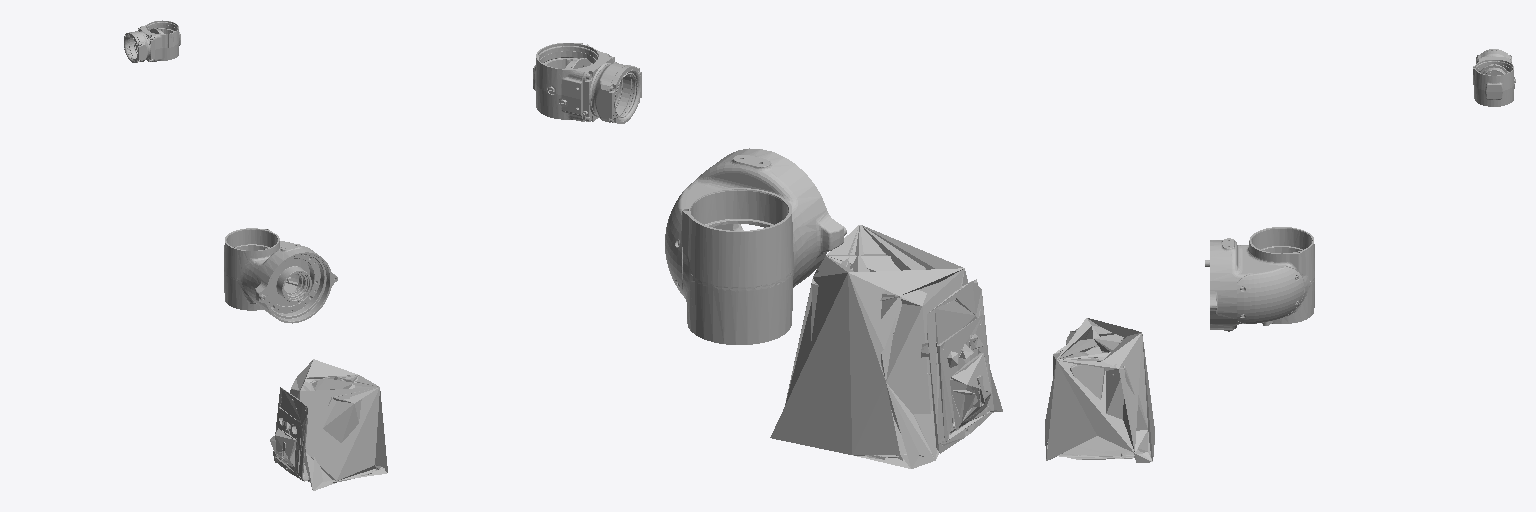
URDF robot description (GP8_ROBOT):
<?xml version="1.0" encoding="utf-8"?>
<!-- This URDF was automatically created by SolidWorks to URDF Exporter! Originally created by [author] ([email redacted]) 
     Commit Version: 1.6.0-1-g15f4949  Build Version: 1.6.7594.29634
     For more information, please see http://wiki.ros.org/sw_urdf_exporter -->
<robot
  name="GP8_ROBOT">
  <link
    name="base_link">
    <inertial>
      <origin
        xyz="-0.0652812104856196 0.000650845346842319 0.0571342236625736"
        rpy="0 0 0" />
      <mass
        value="0.277513225515359" />
      <inertia
        ixx="0.000587449809903283"
        ixy="-3.54881762833007E-06"
        ixz="-1.72893878677204E-05"
        iyy="0.000429447499445371"
        iyz="-2.07386522800233E-06"
        izz="0.000624100905267788" />
    </inertial>
    <visual>
      <origin
        xyz="0 0 0"
        rpy="0 0 0" />
      <geometry>
        <mesh
          filename="package://GP8_ROBOT/meshes/base_link.STL" />
      </geometry>
      <material
        name="">
        <color
          rgba="0.752941176470588 0.752941176470588 0.752941176470588 1" />
      </material>
    </visual>
    <collision>
      <origin
        xyz="0 0 0"
        rpy="0 0 0" />
      <geometry>
        <mesh
          filename="package://GP8_ROBOT/meshes/base_link.STL" />
      </geometry>
    </collision>
  </link>
  <link
    name="link_s_1">
    <inertial>
      <origin
        xyz="-0.0233875345431962 -0.0409434383325452 -0.00705946708811589"
        rpy="0 0 0" />
      <mass
        value="0.206853106260213" />
      <inertia
        ixx="0.000217188936891381"
        ixy="3.0160003975487E-09"
        ixz="-2.88010888808085E-05"
        iyy="0.000264031369070913"
        iyz="3.0900539052876E-09"
        izz="0.000175182610718139" />
    </inertial>
    <visual>
      <origin
        xyz="0 0 0"
        rpy="0 0 0" />
      <geometry>
        <mesh
          filename="package://GP8_ROBOT/meshes/link_s_1.STL" />
      </geometry>
      <material
        name="">
        <color
          rgba="0.752941176470588 0.752941176470588 0.752941176470588 1" />
      </material>
    </visual>
    <collision>
      <origin
        xyz="0 0 0"
        rpy="0 0 0" />
      <geometry>
        <mesh
          filename="package://GP8_ROBOT/meshes/link_s_1.STL" />
      </geometry>
    </collision>
  </link>
  <joint
    name="joint_s_1"
    type="revolute">
    <origin
      xyz="0.04 0 0.33"
      rpy="0 0 0" />
    <parent
      link="base_link" />
    <child
      link="link_s_1" />
    <axis
      xyz="0 0 -1" />
    <limit
      lower="-2.9671"
      upper="2.9671"
      effort="30"
      velocity="7.9413" />
  </joint>
  <link
    name="link_l_2">
    <inertial>
      <origin
        xyz="-0.0235569691025702 -0.000621628911227211 0.160353720137275"
        rpy="0 0 0" />
      <mass
        value="1.60022314643033" />
      <inertia
        ixx="0.0224987901336236"
        ixy="3.98888746967524E-05"
        ixz="0.000229424164720137"
        iyy="0.0201417423251241"
        iyz="-0.000484912332583303"
        izz="0.00729424551897379" />
    </inertial>
    <visual>
      <origin
        xyz="0 0 0"
        rpy="0 0 0" />
      <geometry>
        <mesh
          filename="package://GP8_ROBOT/meshes/link_l_2.STL" />
      </geometry>
      <material
        name="">
        <color
          rgba="0.752941176470588 0.752941176470588 0.752941176470588 1" />
      </material>
    </visual>
    <collision>
      <origin
        xyz="0 0 0"
        rpy="0 0 0" />
      <geometry>
        <mesh
          filename="package://GP8_ROBOT/meshes/link_l_2.STL" />
      </geometry>
    </collision>
  </link>
  <joint
    name="joint_l_2"
    type="revolute">
    <origin
      xyz="0 0 0"
      rpy="0 0 0" />
    <parent
      link="link_s_1" />
    <child
      link="link_l_2" />
    <axis
      xyz="0 -1 0" />
    <limit
      lower="-1.1345"
      upper="2.5307"
      effort="30"
      velocity="6.7195" />
  </joint>
  <link
    name="link_u_3">
    <inertial>
      <origin
        xyz="-0.0249999863890236 -1.43346086513718E-08 0.0988436751455709"
        rpy="0 0 0" />
      <mass
        value="438218.078226928" />
      <inertia
        ixx="22.8415065262053"
        ixy="-3.95716194882173E-07"
        ixz="-4.18816882557033E-05"
        iyy="22.8420472669112"
        iyz="-1.5347647244187E-05"
        izz="45.4201725218812" />
    </inertial>
    <visual>
      <origin
        xyz="0 0 0"
        rpy="0 0 0" />
      <geometry>
        <mesh
          filename="package://GP8_ROBOT/meshes/link_u_3.STL" />
      </geometry>
      <material
        name="">
        <color
          rgba="0.752941176470588 0.752941176470588 0.752941176470588 1" />
      </material>
    </visual>
    <collision>
      <origin
        xyz="0 0 0"
        rpy="0 0 0" />
      <geometry>
        <mesh
          filename="package://GP8_ROBOT/meshes/link_u_3.STL" />
      </geometry>
    </collision>
  </link>
  <joint
    name="joint_u_3"
    type="revolute">
    <origin
      xyz="0 0 0.345"
      rpy="0 0 0" />
    <parent
      link="link_l_2" />
    <child
      link="link_u_3" />
    <axis
      xyz="0 -1 0" />
    <limit
      lower="-1.2217"
      upper="3.3161"
      effort="30"
      velocity="9.0757" />
  </joint>
  <link
    name="link_r_4">
    <inertial>
      <origin
        xyz="0.0120187109126609 0.0170997783888767 0.00119815087328623"
        rpy="0 0 0" />
      <mass
        value="0.239407686790165" />
      <inertia
        ixx="0.000189622597940757"
        ixy="1.68982131243527E-06"
        ixz="3.37003634116589E-07"
        iyy="0.00162057742744657"
        iyz="-1.67712167217846E-09"
        izz="0.00143630142138473" />
    </inertial>
    <visual>
      <origin
        xyz="0 0 0"
        rpy="0 0 0" />
      <geometry>
        <mesh
          filename="package://GP8_ROBOT/meshes/link_r_4.STL" />
      </geometry>
      <material
        name="">
        <color
          rgba="0.752941176470588 0.752941176470588 0.752941176470588 1" />
      </material>
    </visual>
    <collision>
      <origin
        xyz="0 0 0"
        rpy="0 0 0" />
      <geometry>
        <mesh
          filename="package://GP8_ROBOT/meshes/link_r_4.STL" />
      </geometry>
    </collision>
  </link>
  <joint
    name="joint_r_4"
    type="revolute">
    <origin
      xyz="0.22065 0 0.04"
      rpy="0 0 0" />
    <parent
      link="link_u_3" />
    <child
      link="link_r_4" />
    <axis
      xyz="-1 0 0" />
    <limit
      lower="-3.3161"
      upper="3.3161"
      effort="17"
      velocity="9.5993" />
  </joint>
  <link
    name="link_b_5">
    <inertial>
      <origin
        xyz="0.021260542485631 -0.00103435323218999 0.000309137980001428"
        rpy="0 0 0" />
      <mass
        value="0.162817452778828" />
      <inertia
        ixx="0.00012595384625823"
        ixy="-9.68889109090893E-07"
        ixz="-1.7896935836253E-06"
        iyy="0.000141925891641518"
        iyz="1.48158827747186E-07"
        izz="0.000103931385251892" />
    </inertial>
    <visual>
      <origin
        xyz="0 0 0"
        rpy="0 0 0" />
      <geometry>
        <mesh
          filename="package://GP8_ROBOT/meshes/link_b_5.STL" />
      </geometry>
      <material
        name="">
        <color
          rgba="0.752941176470588 0.752941176470588 0.752941176470588 1" />
      </material>
    </visual>
    <collision>
      <origin
        xyz="0 0 0"
        rpy="0 0 0" />
      <geometry>
        <mesh
          filename="package://GP8_ROBOT/meshes/link_b_5.STL" />
      </geometry>
    </collision>
  </link>
  <joint
    name="joint_b_5"
    type="revolute">
    <origin
      xyz="0.11935 0 0"
      rpy="0 0 0" />
    <parent
      link="link_r_4" />
    <child
      link="link_b_5" />
    <axis
      xyz="0 -1 0" />
    <limit
      lower="-2.3562"
      upper="2.3562"
      effort="17"
      velocity="9.5993" />
  </joint>
  <link
    name="link_t_6">
    <inertial>
      <origin
        xyz="0.0103426123677494 0.000104248019014014 -1.42512719403243E-08"
        rpy="0 0 0" />
      <mass
        value="0.0171282215990933" />
      <inertia
        ixx="6.71678492527264E-06"
        ixy="-7.75547932244119E-09"
        ixz="-6.26617975452594E-13"
        iyy="3.48368311870699E-06"
        iyz="2.70549522554527E-11"
        izz="3.5512345838154E-06" />
    </inertial>
    <visual>
      <origin
        xyz="0 0 0"
        rpy="0 0 0" />
      <geometry>
        <mesh
          filename="package://GP8_ROBOT/meshes/link_t_6.STL" />
      </geometry>
      <material
        name="">
        <color
          rgba="0.752941176470588 0.752941176470588 0.752941176470588 1" />
      </material>
    </visual>
    <collision>
      <origin
        xyz="0 0 0"
        rpy="0 0 0" />
      <geometry>
        <mesh
          filename="package://GP8_ROBOT/meshes/link_t_6.STL" />
      </geometry>
    </collision>
  </link>
  <joint
    name="joint_t_6"
    type="revolute">
    <origin
      xyz="0.065 0 0"
      rpy="0 0 0" />
    <parent
      link="link_b_5" />
    <child
      link="link_t_6" />
    <axis
      xyz="0 -1 0" />
    <limit
      lower="-6.2832"
      upper="6.2832"
      effort="10"
      velocity="17.453" />
  </joint>
</robot>

--- Facts derived from the render (not from the file) ---
The picture shows the robot from 3 angles, left to right: view 1: azimuth 30°, elevation 25°; view 2: azimuth 150°, elevation 25°; view 3: azimuth 270°, elevation 25°; orthographic projection.
Robot: GP8_ROBOT — 7 links, 6 joints (6 revolute); root link base_link; default pose: every joint at zero.
Visible links, largest first — view 1: base_link, link_s_1, link_b_5; view 2: base_link, link_s_1, link_b_5; view 3: base_link, link_s_1, link_b_5.
Link boxes in pixels (x1=…): base_link: x1=270, y1=359, x2=387, y2=490; link_s_1: x1=224, y1=228, x2=337, y2=323; link_b_5: x1=124, y1=20, x2=180, y2=62; base_link: x1=770, y1=225, x2=1002, y2=468; link_s_1: x1=665, y1=148, x2=846, y2=344; link_b_5: x1=533, y1=43, x2=641, y2=123; base_link: x1=1045, y1=318, x2=1154, y2=462; link_s_1: x1=1205, y1=227, x2=1314, y2=331; link_b_5: x1=1473, y1=49, x2=1515, y2=106.
Size in the robot's own frame: 0.2689 by 0.8537 by 0.748 metres.
4 mesh visuals loaded from 7 distinct referenced files (4 binary STL); not drawn: 3 (reference not matched to a file when rendering).